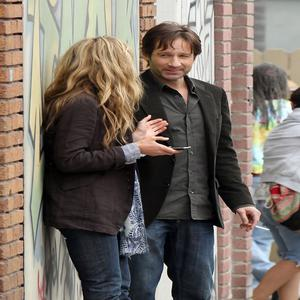cigarette: (246, 223, 271, 233)
